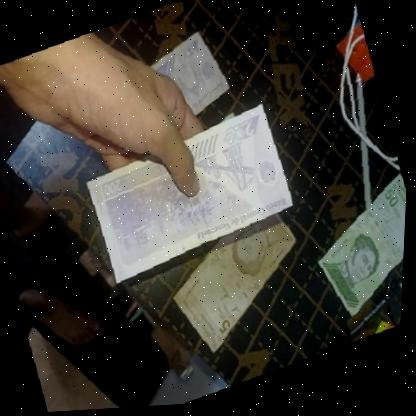two_hundred-back-vef: (76, 102, 305, 291)
